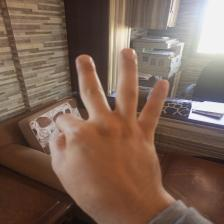five: (44, 46, 172, 188)
